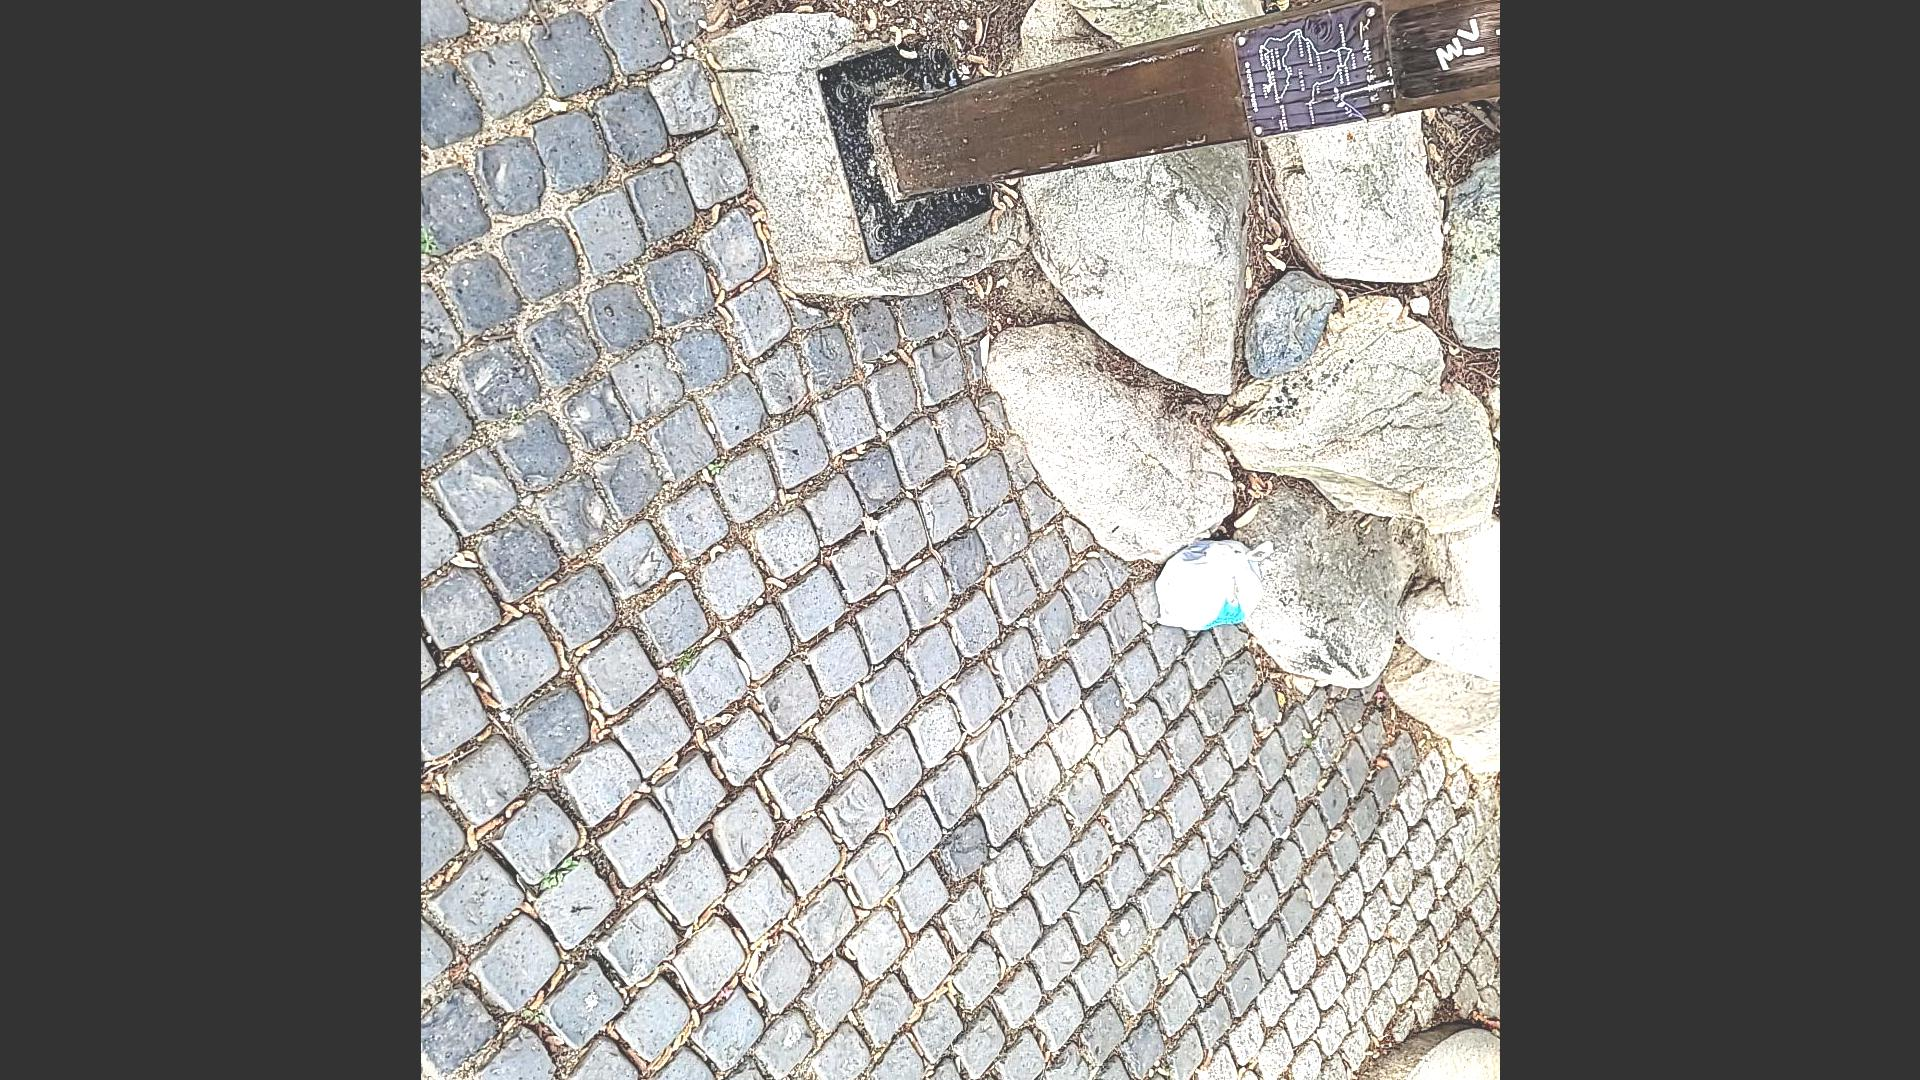white_bag: (1142, 524, 1270, 640)
